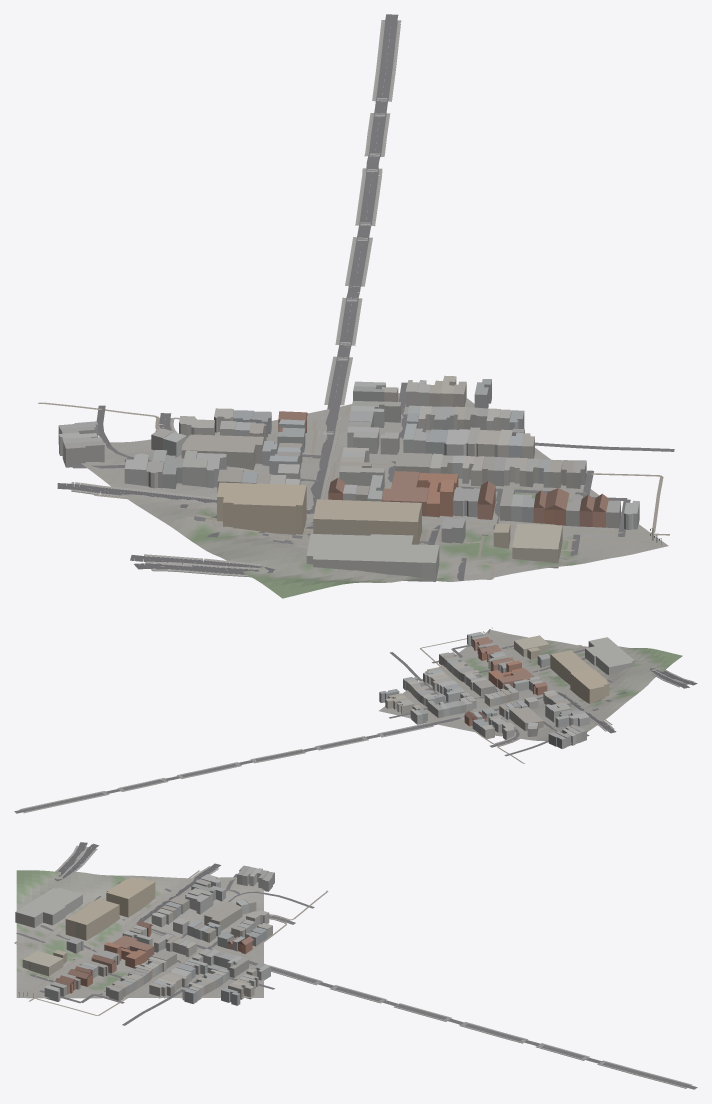
Rendered from tile_-8_-2.glb.
3 views of the same model, one above another, from view 1: azimuth 30°, elevation 25°; view 2: azimuth 150°, elevation 25°; view 3: azimuth 270°, elevation 25° (orthographic). The views are drawn at different scales.
Parts seen in each view (by area): view 1: buildings, terrain, roads, sidewalks, paths; view 2: buildings, terrain, roads, sidewalks, paths; view 3: buildings, terrain, roads, sidewalks, paths.
Boxes of the visible parts, box(x1,y1,x2,y2) form: buildings: box(58, 375, 639, 581); terrain: box(81, 393, 668, 598); roads: box(57, 14, 674, 580); sidewalks: box(71, 20, 401, 577); paths: box(38, 402, 669, 579); buildings: box(379, 632, 634, 748); terrain: box(379, 629, 682, 743); roads: box(14, 640, 697, 813); sidewalks: box(19, 670, 693, 813); paths: box(420, 633, 613, 763); buildings: box(15, 865, 274, 1005); terrain: box(16, 870, 263, 998); roads: box(16, 842, 697, 1089); sidewalks: box(55, 845, 692, 1088); paths: box(14, 870, 328, 1015).
Size of the model in its own units: 539 by 34.82 by 708.
